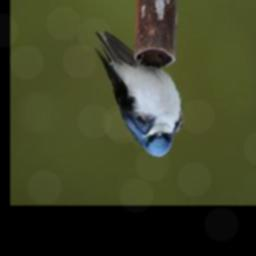Swallow: (92, 30, 184, 159)
